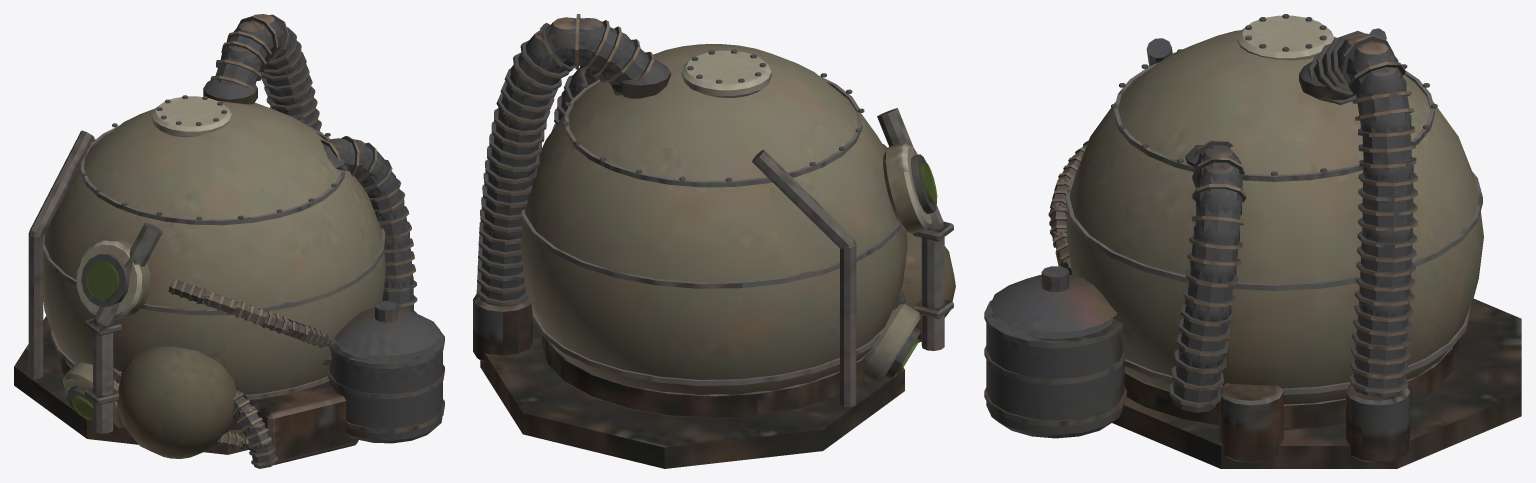
File: nuclear-reactor.glb
The picture shows the model from 3 angles, left to right: view 1: azimuth 30°, elevation 25°; view 2: azimuth 150°, elevation 25°; view 3: azimuth 270°, elevation 25°; orthographic projection. The views are drawn at different scales.
Visible parts, largest first — view 1: body, anim_glow_core; view 2: body, anim_glow_core; view 3: body.
Boxes of the visible parts, left/top/right/bottom form: body: left=14, top=14, right=444, bottom=468; anim_glow_core: left=71, top=262, right=119, bottom=420; body: left=473, top=14, right=955, bottom=468; anim_glow_core: left=895, top=162, right=937, bottom=374; body: left=984, top=14, right=1521, bottom=468.
Bounding box in the file's own units: 4.07 × 3.72 × 4.67.
Materials: 2 (2 with a texture image).
